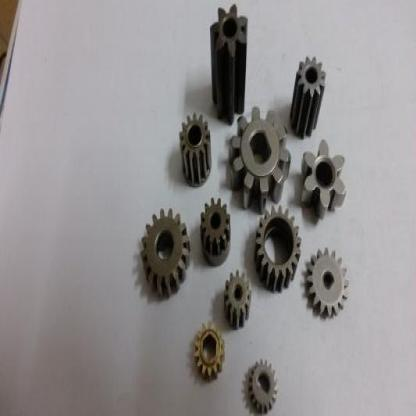FOD: (226, 105, 291, 214), (208, 1, 249, 128), (138, 205, 190, 301), (254, 204, 302, 294), (300, 137, 349, 222), (288, 52, 328, 138), (304, 244, 347, 322), (178, 113, 213, 192), (198, 196, 232, 266), (222, 269, 254, 329), (245, 356, 278, 414), (192, 322, 224, 381)
